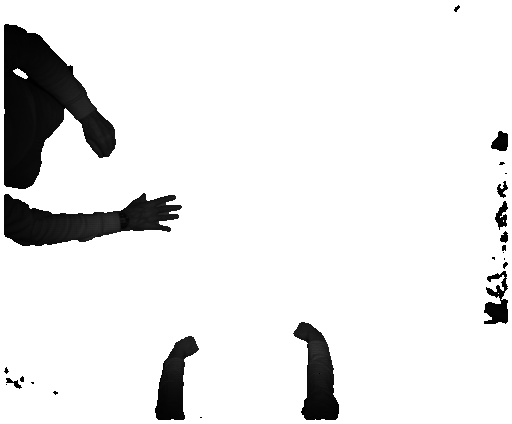fist: (85, 118, 119, 159), (288, 320, 335, 346), (164, 336, 199, 360)
hand: (132, 192, 183, 231)
